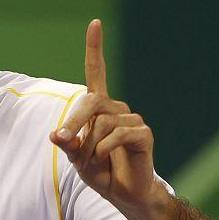up: (48, 18, 155, 202)
